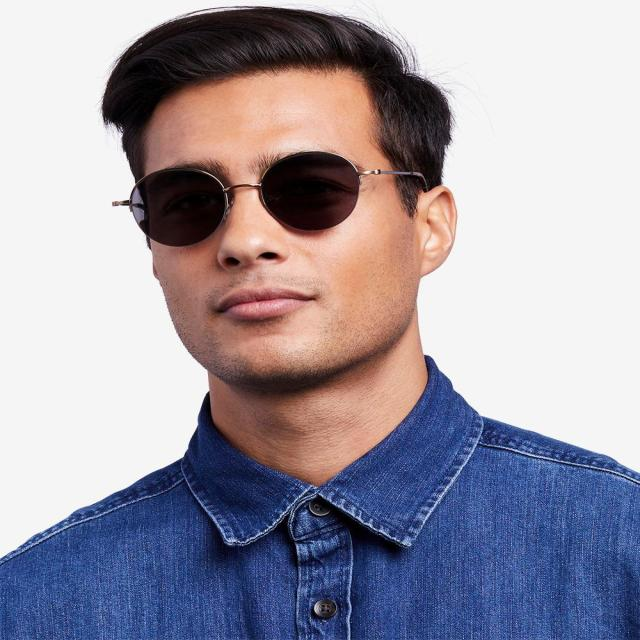2_gafas: (111, 150, 429, 248)
